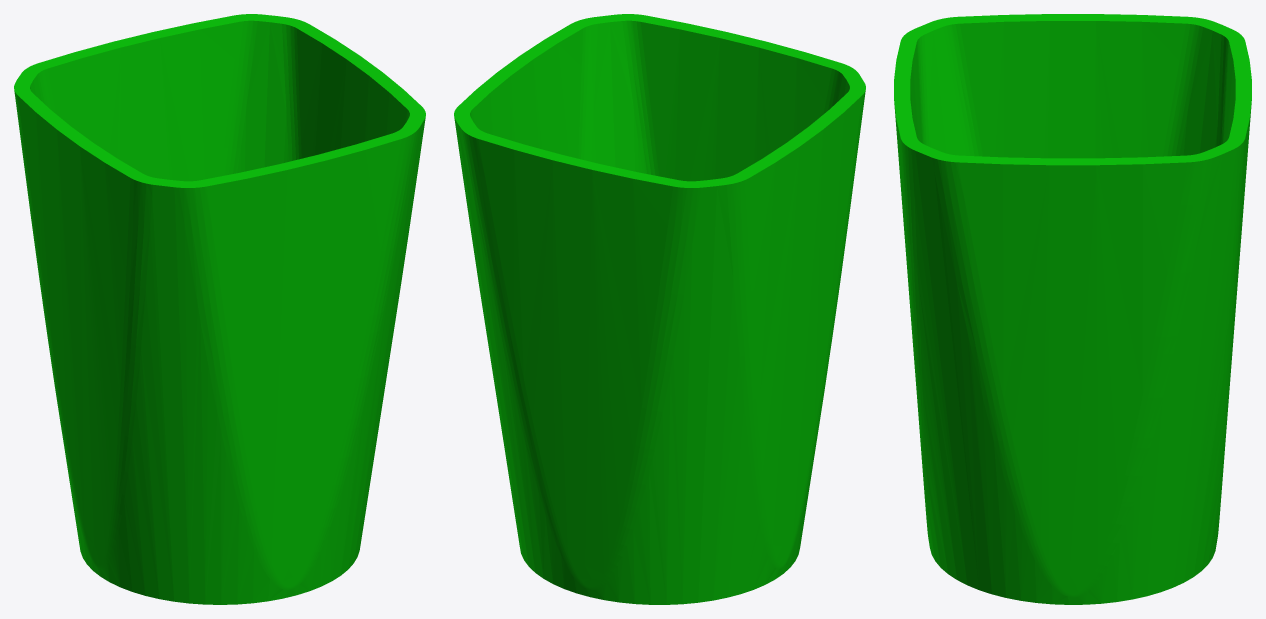
Rendered from cup_green.dae.
3 views of the same model, side by side, from view 1: azimuth 30°, elevation 25°; view 2: azimuth 150°, elevation 25°; view 3: azimuth 270°, elevation 25° (orthographic). The views are drawn at different scales.
Visible parts, largest first — view 1: cup1FBXASC058Mesh; view 2: cup1FBXASC058Mesh; view 3: cup1FBXASC058Mesh.
Part boxes in pixels (left/top/right/bottom): cup1FBXASC058Mesh: left=14, top=14, right=425, bottom=604; cup1FBXASC058Mesh: left=454, top=14, right=865, bottom=604; cup1FBXASC058Mesh: left=894, top=14, right=1251, bottom=604.
Size of the model in its own units: 11.95 by 16.76 by 11.95.
